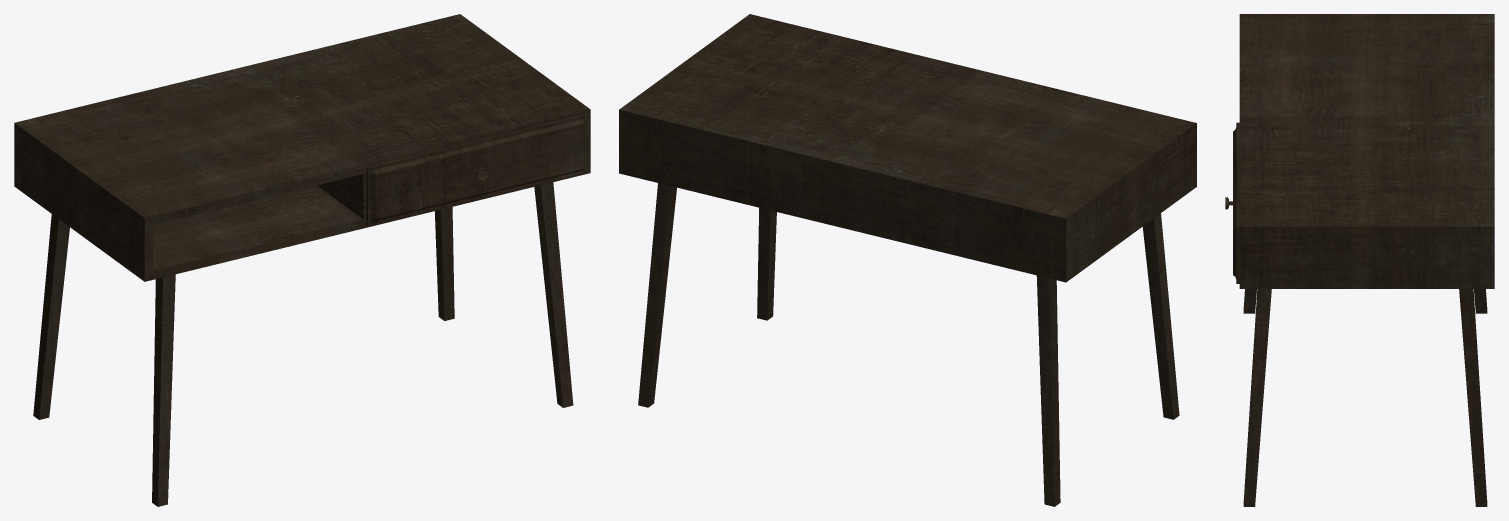
The model's file is tv_table_4_4.obj.
3 renders of one model, left to right at view 1: azimuth 30°, elevation 25°; view 2: azimuth 150°, elevation 25°; view 3: azimuth 270°, elevation 25°, orthographic. The views are drawn at different scales.
Parts seen in each view (by area): view 1: tv_table_4_4, tv_table_4_4_drawer; view 2: tv_table_4_4; view 3: tv_table_4_4, tv_table_4_4_drawer.
Boxes of the visible parts, x1=… form: tv_table_4_4: x1=14, y1=14, x2=590, y2=506; tv_table_4_4_drawer: x1=366, y1=113, x2=587, y2=225; tv_table_4_4: x1=619, y1=14, x2=1196, y2=506; tv_table_4_4: x1=1239, y1=14, x2=1494, y2=506; tv_table_4_4_drawer: x1=1225, y1=122, x2=1239, y2=283.
Bounding box in the file's own units: 1.54 × 0.97 × 0.8235.
